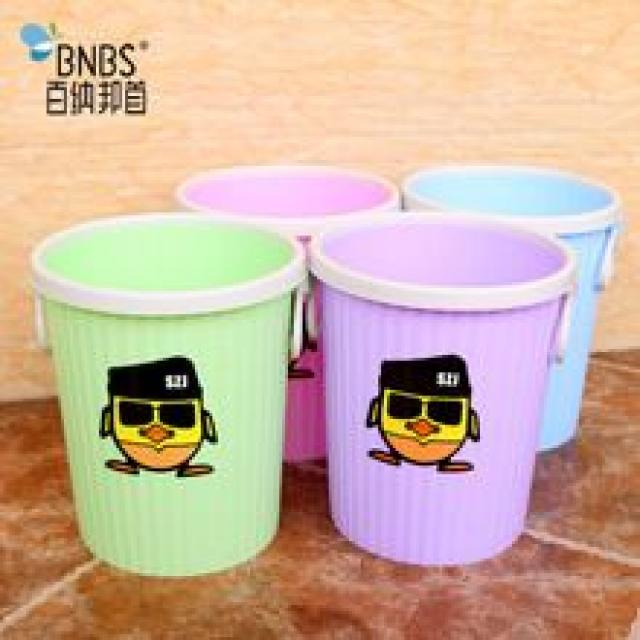Dustbin: (26, 211, 310, 580), (309, 206, 582, 570), (175, 161, 401, 466), (402, 160, 626, 456)
